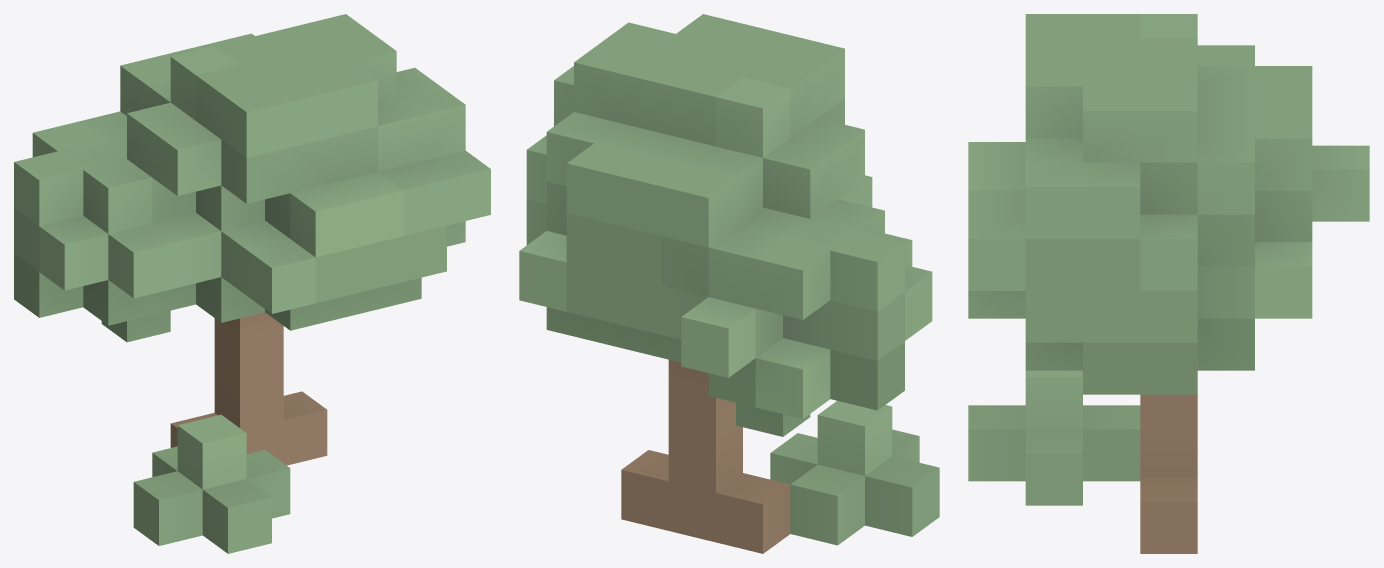
Rendered from tree_plot.v1.glb.
3 renders of one model, left to right at view 1: azimuth 30°, elevation 25°; view 2: azimuth 150°, elevation 25°; view 3: azimuth 270°, elevation 25°, orthographic. The views are drawn at different scales.
Parts seen in each view (by area): view 1: tree_plot; view 2: tree_plot; view 3: tree_plot.
Part boxes in pixels (x1,y1,x2,y2): tree_plot: (14,14,490,553); tree_plot: (519,14,939,553); tree_plot: (968,14,1369,553).
Size of the model in its own units: 1 by 1.12 by 0.875.
